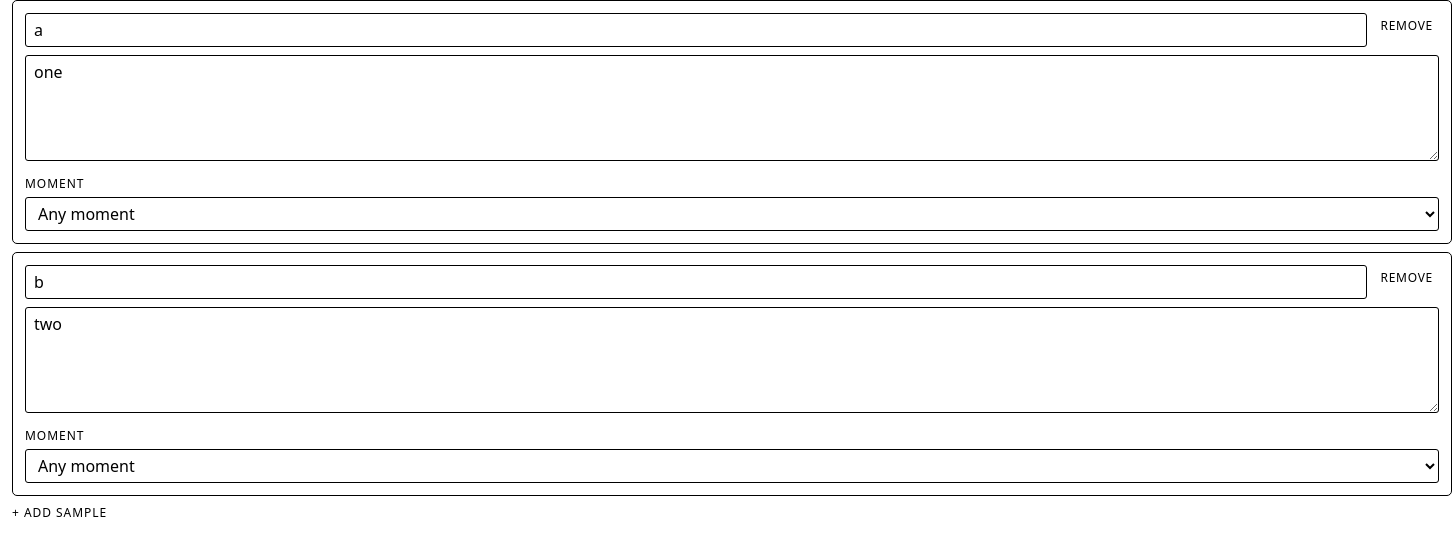
Test case: VoiceSamplesEditor › removes a row
What coordinates should you click on to do the following:
click the button with aria-label "remove sample 1"
I would click on:
 (1407, 26)
Its box is [1374,13,1439,39].
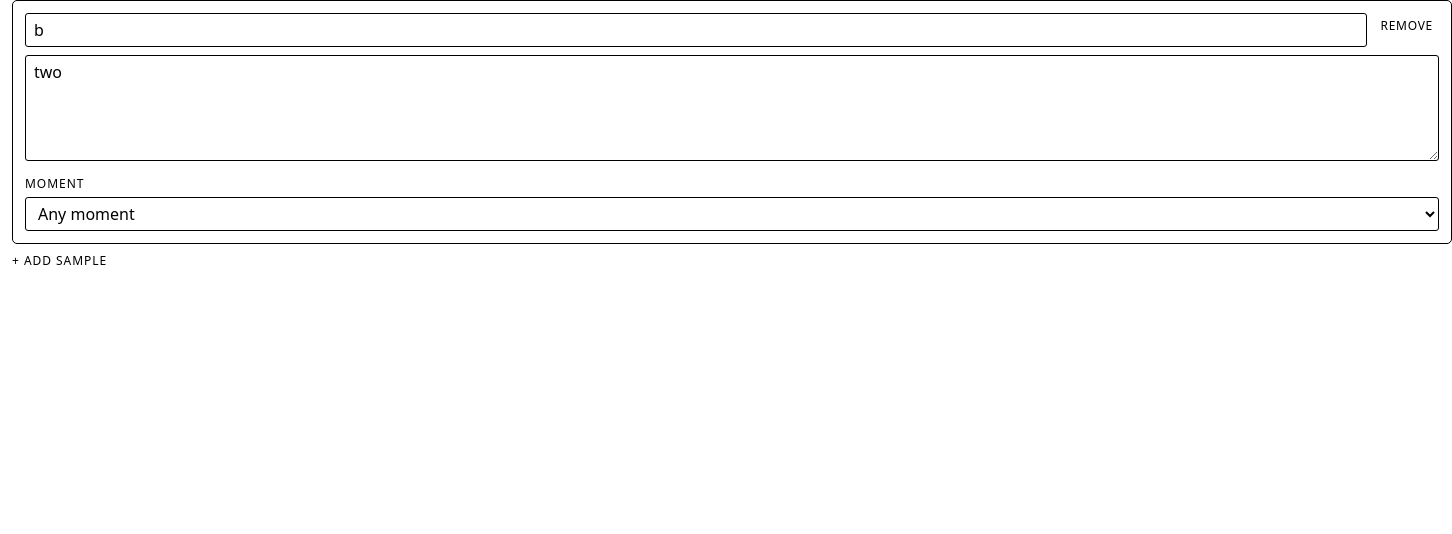
Now the field named "sample 1 situation" holds "b", box [25,13,1366,47]
